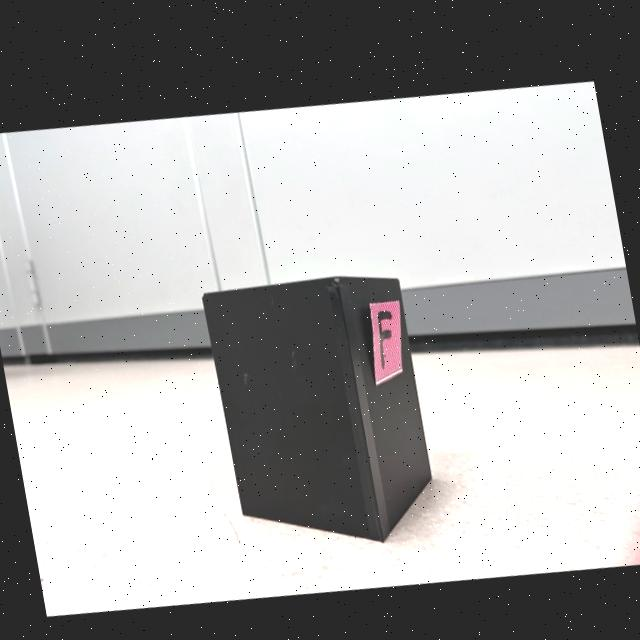F: (377, 303, 392, 359)
